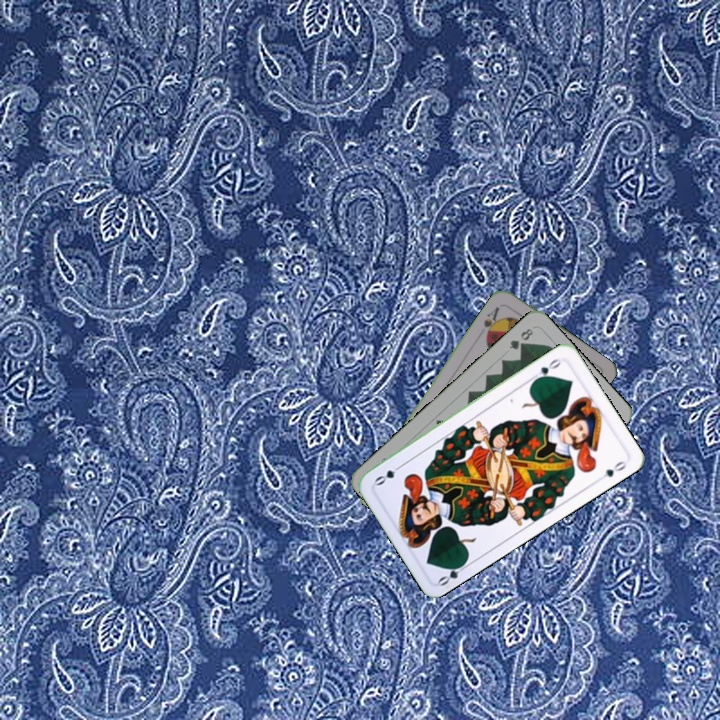G8: (505, 324, 536, 353)
GO: (434, 557, 472, 589), (530, 355, 564, 384)
SA: (480, 303, 502, 340)
